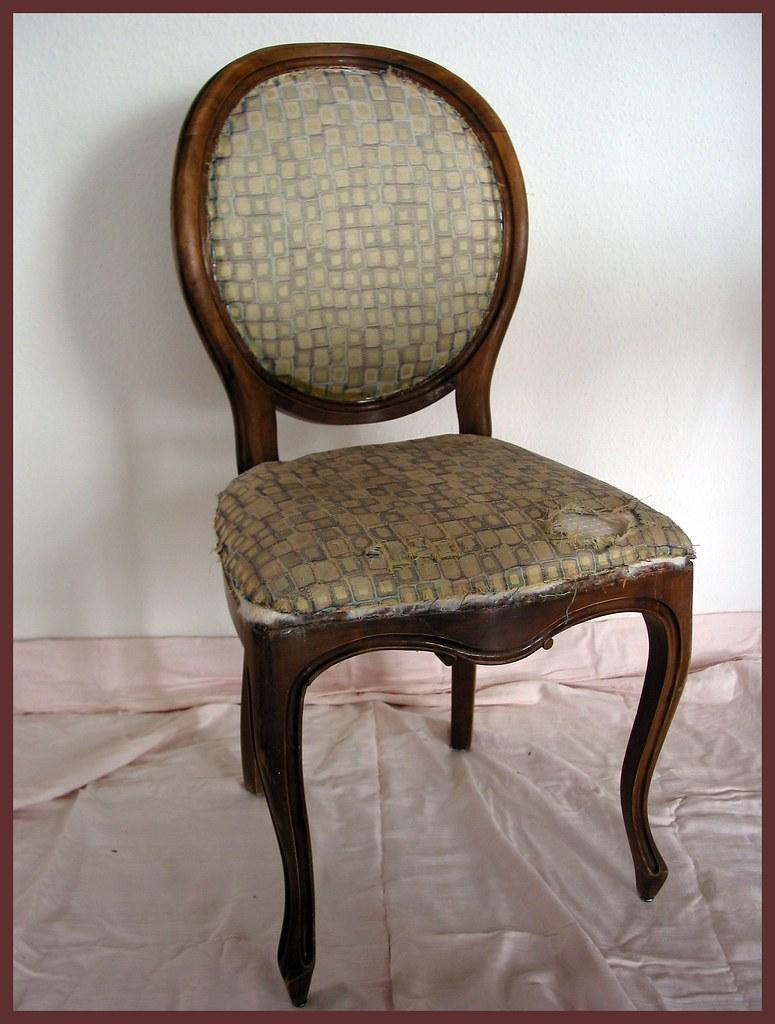chair: (170, 41, 698, 1008)
